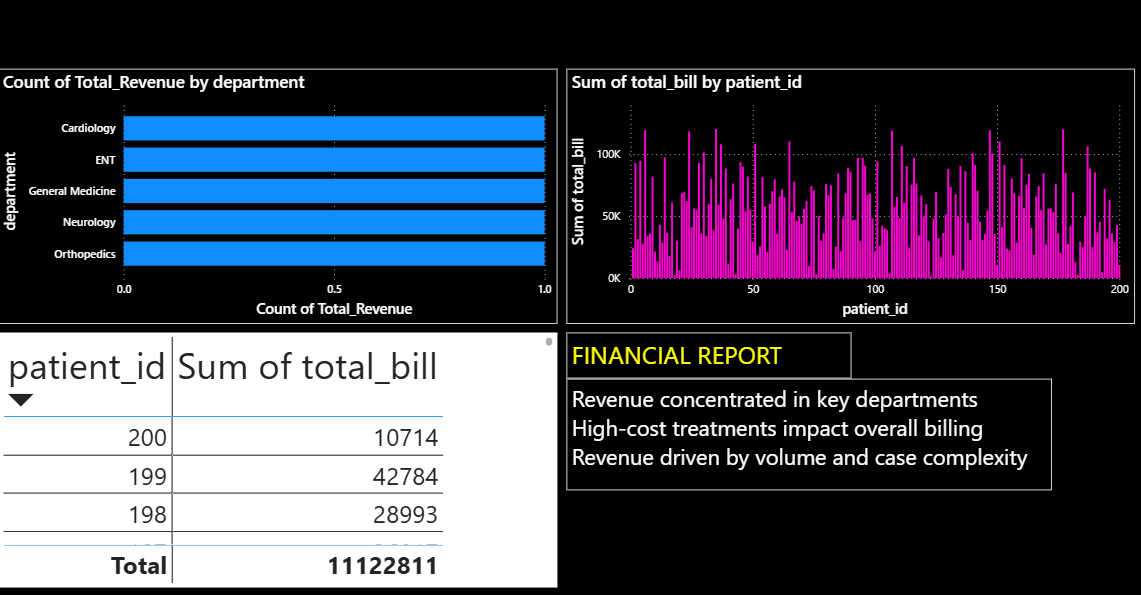

The dashboard page shown, as its layout file describes it:
{"tool":"powerbi","page":{"name":"Page 4","canvas":[1280,720],"ordinal":3},"visuals":[{"type":"barChart","fields":{"Category":["Department_Load.department"],"Y":["CountNonNull(Department_Revenue.Total_Revenue)"]},"box":[15.1,130.4,614.8,279.9],"z":0},{"type":"columnChart","fields":{"Category":["Patinet_Cost_Overview.patient_id"],"Y":["Sum(Patinet_Cost_Overview.total_bill)"]},"box":[639.5,130.4,624.4,279.9],"z":1000},{"type":"tableEx","fields":{"Values":["Patinet_Cost_Overview.patient_id","Sum(Patinet_Cost_Overview.total_bill)"]},"box":[15.1,419.9,614.8,279.9],"z":2000},{"type":"actionButton","box":[0,0,100,40],"z":3000},{"type":"textbox","box":[639.5,419.9,312.9,50.8],"z":3001},{"type":"textbox","box":[639.5,470.7,532.4,122.1],"z":3002}]}

Visuals, with their boxes on the page's 1280x720 design canvas (x1, y1, x2, y2). These are canvas units, not pixel positions in the 1141x595 screenshot, which may show the page scaled, cropped or inside an application window:
barChart - Department_Load.department x CountNonNull(Department_Revenue.Total_Revenue): left=15, top=130, right=630, bottom=410
columnChart - Patinet_Cost_Overview.patient_id x Sum(Patinet_Cost_Overview.total_bill): left=640, top=130, right=1264, bottom=410
tableEx - Patinet_Cost_Overview.patient_id x Sum(Patinet_Cost_Overview.total_bill): left=15, top=420, right=630, bottom=700
actionButton: left=0, top=0, right=100, bottom=40
textbox: left=640, top=420, right=952, bottom=471
textbox: left=640, top=471, right=1172, bottom=593
